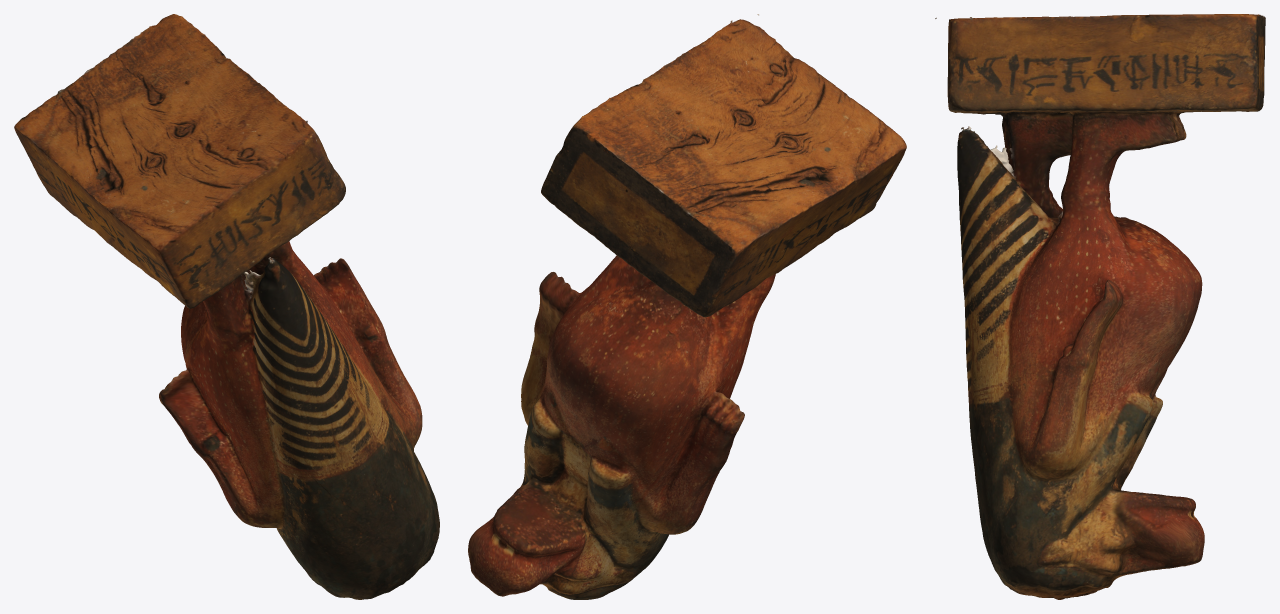
File: statuette_hippo.glb
3 renders of one model, left to right at view 1: azimuth 30°, elevation 25°; view 2: azimuth 150°, elevation 25°; view 3: azimuth 270°, elevation 25°, orthographic. The views are drawn at different scales.
Visible parts, largest first — view 1: Object_2; view 2: Object_2; view 3: Object_2.
Boxes of the visible parts, bbox=[...] form: Object_2: bbox=[14, 14, 439, 599]; Object_2: bbox=[468, 14, 906, 599]; Object_2: bbox=[935, 14, 1265, 599].
Size of the model in its own units: 2 by 3.16 by 1.76.
Materials: 1 (1 with a texture image).
